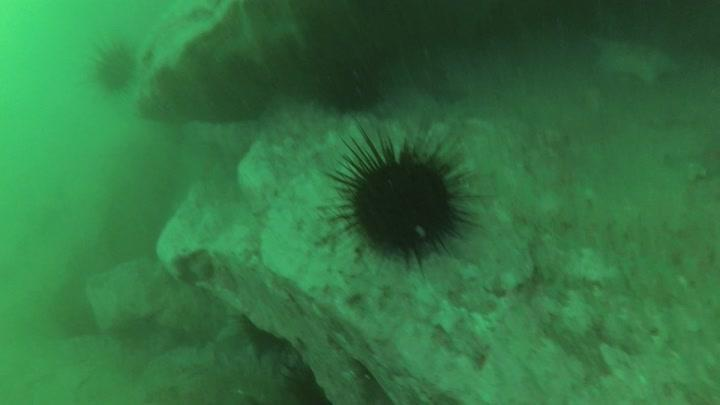urchin: (325, 128, 482, 266), (93, 40, 142, 88)
